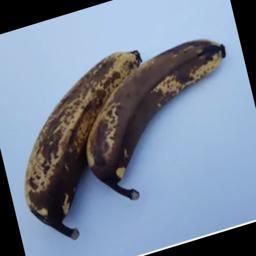Banana Rotten: (6, 0, 230, 231)
